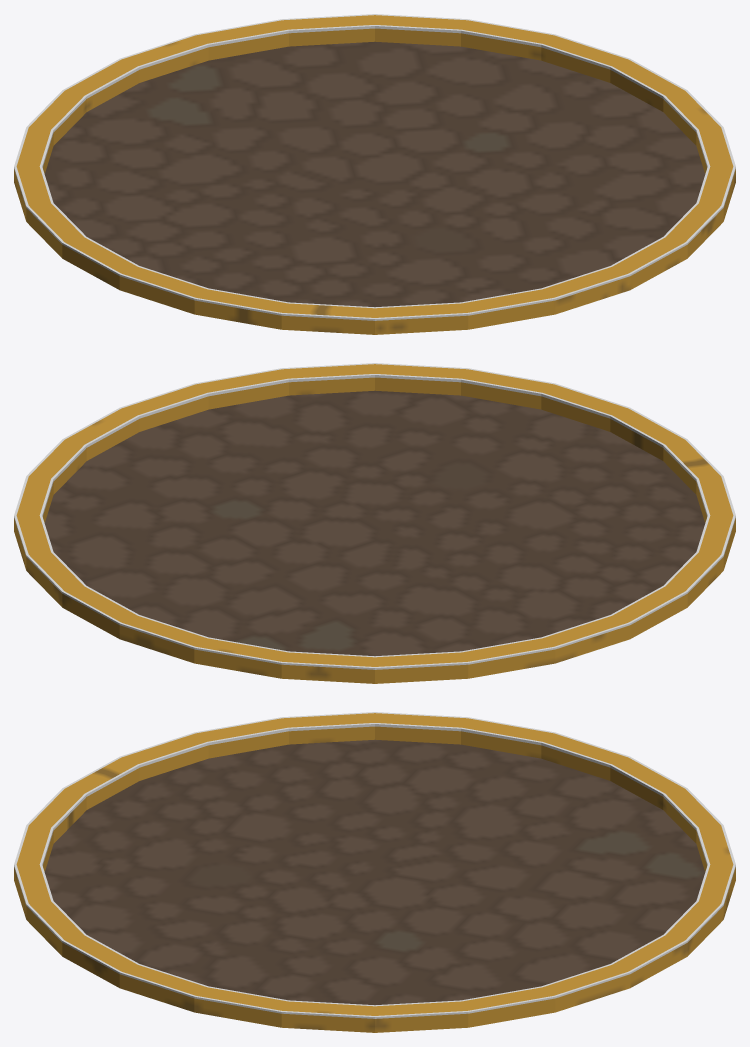
The model's file is TierraCircular.fbx.
3 views of the same model, one above another, from view 1: azimuth 30°, elevation 25°; view 2: azimuth 150°, elevation 25°; view 3: azimuth 270°, elevation 25° (orthographic).
Visible parts, largest first — view 1: TierraCircular, TierraCircular.001; view 2: TierraCircular, TierraCircular.001; view 3: TierraCircular, TierraCircular.001.
Boxes of the visible parts, bbox=[...] form: TierraCircular: bbox=[44, 41, 705, 307]; TierraCircular.001: bbox=[14, 14, 735, 334]; TierraCircular: bbox=[44, 390, 705, 656]; TierraCircular.001: bbox=[14, 363, 735, 683]; TierraCircular: bbox=[44, 739, 705, 1005]; TierraCircular.001: bbox=[14, 712, 735, 1032].
Size of the model in its own units: 2 by 0.0484 by 2.
3 materials, 2 textured.
